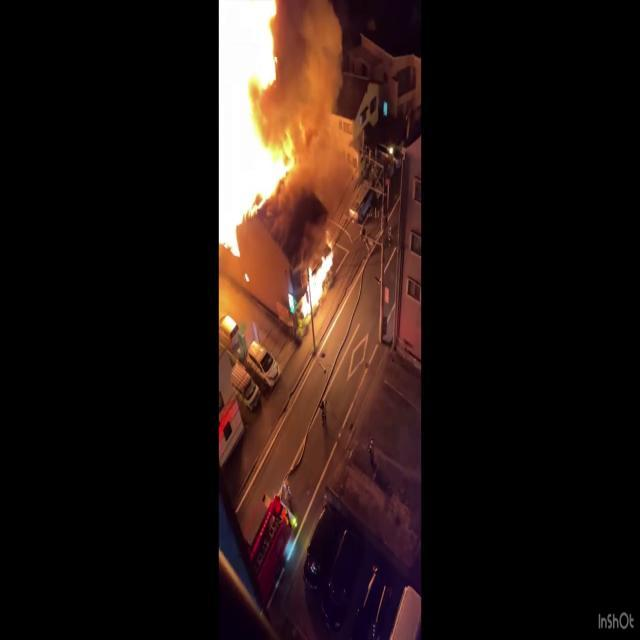Fire: (218, 0, 300, 253), (294, 243, 336, 329)
Smoke: (280, 1, 352, 170)
